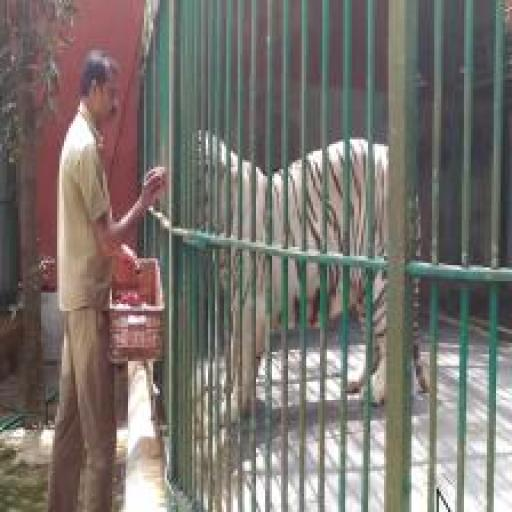Tiger: (183, 123, 435, 416)
